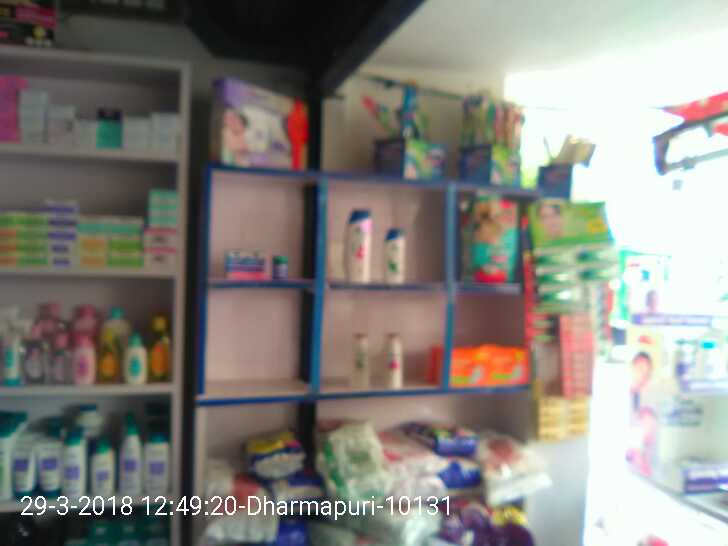vicks: (224, 248, 288, 279)
